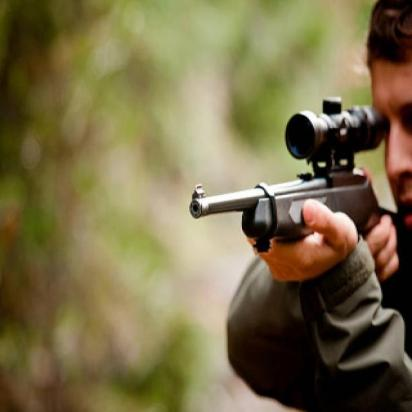Gun: (179, 83, 391, 252)
